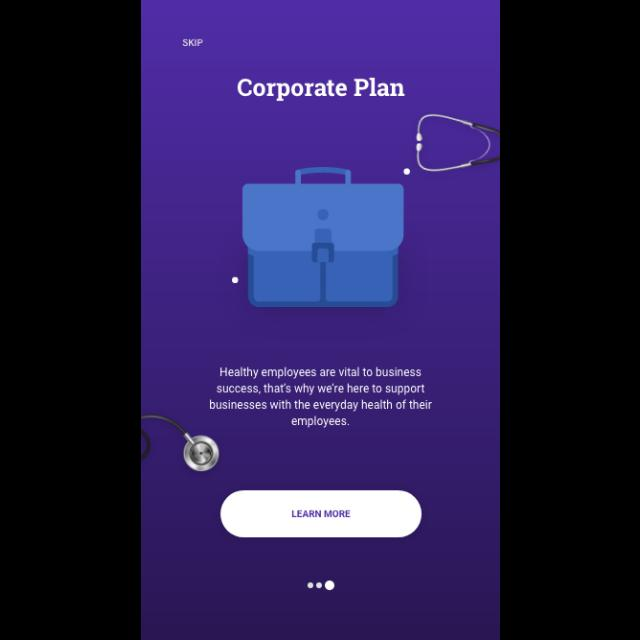image: (232, 168, 410, 308)
pageindicator: (308, 581, 334, 591)
text: (210, 367, 432, 429), (238, 78, 404, 102), (182, 40, 204, 48)
textbutton: (220, 490, 422, 538)
